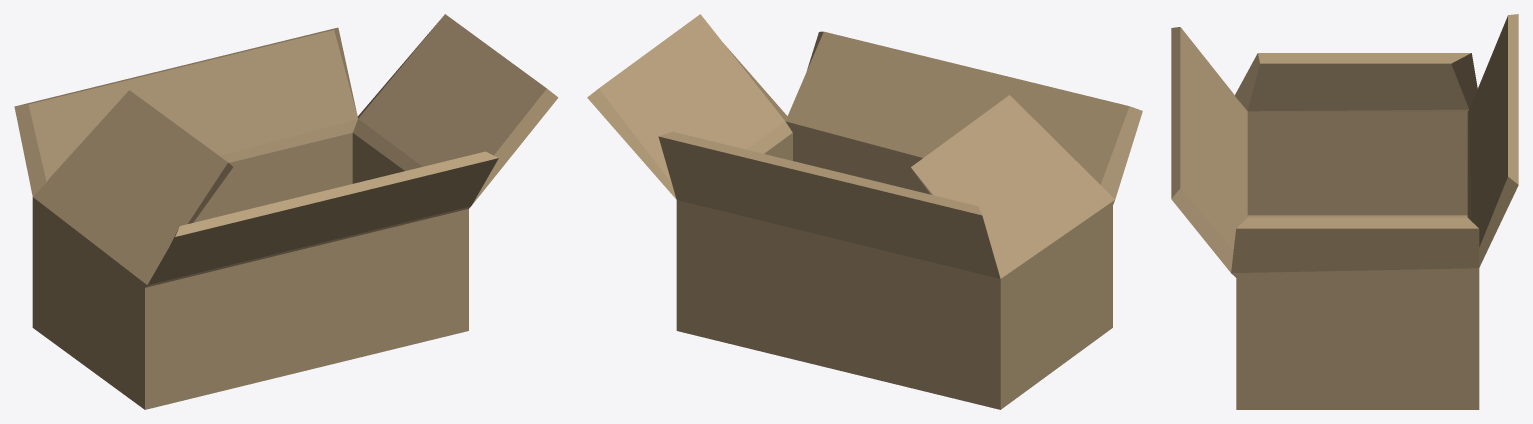
The model's file is Scatolone_2.fbx.
3 views of the same model, side by side, from view 1: azimuth 30°, elevation 25°; view 2: azimuth 150°, elevation 25°; view 3: azimuth 270°, elevation 25° (orthographic). The views are drawn at different scales.
Visible parts, largest first — view 1: Scatolone_2; view 2: Scatolone_2; view 3: Scatolone_2.
Part boxes in pixels (left/top/right/bottom): Scatolone_2: left=14, top=14, right=558, bottom=409; Scatolone_2: left=587, top=14, right=1142, bottom=409; Scatolone_2: left=1171, top=14, right=1518, bottom=409.
Bounding box in the file's own units: 2.13 × 1.07 × 1.43.
